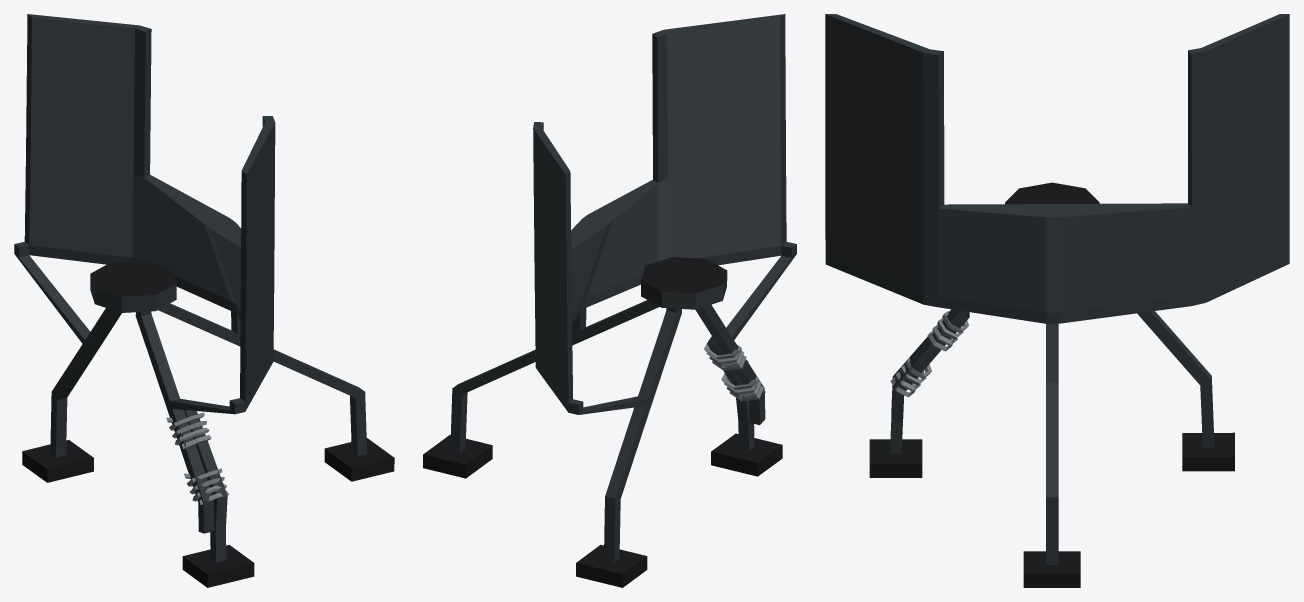
Rendered from SM_Guntation.fbx.
The picture shows the model from 3 angles, left to right: view 1: azimuth 30°, elevation 25°; view 2: azimuth 150°, elevation 25°; view 3: azimuth 270°, elevation 25°; orthographic projection. The views are drawn at different scales.
Parts seen in each view (by area): view 1: SM_Guntation; view 2: SM_Guntation; view 3: SM_Guntation.
Part boxes in pixels (<box>): SM_Guntation: <box>14,14,394,587</box>; SM_Guntation: <box>423,14,796,587</box>; SM_Guntation: <box>825,14,1289,587</box>.
Size of the model in its own units: 79.83 by 113 by 106.
